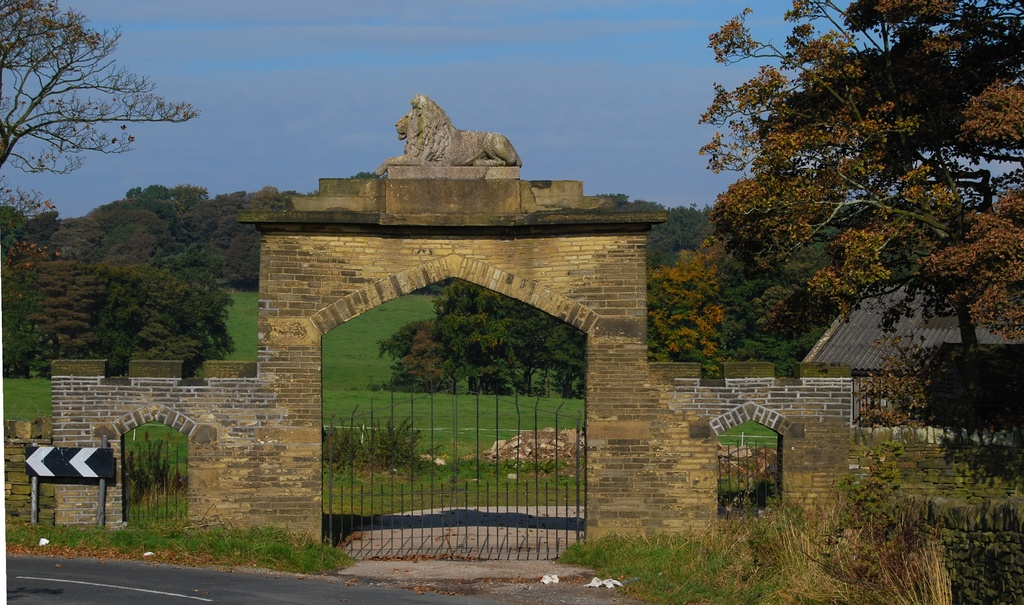Tree: (0, 0, 1023, 545)
